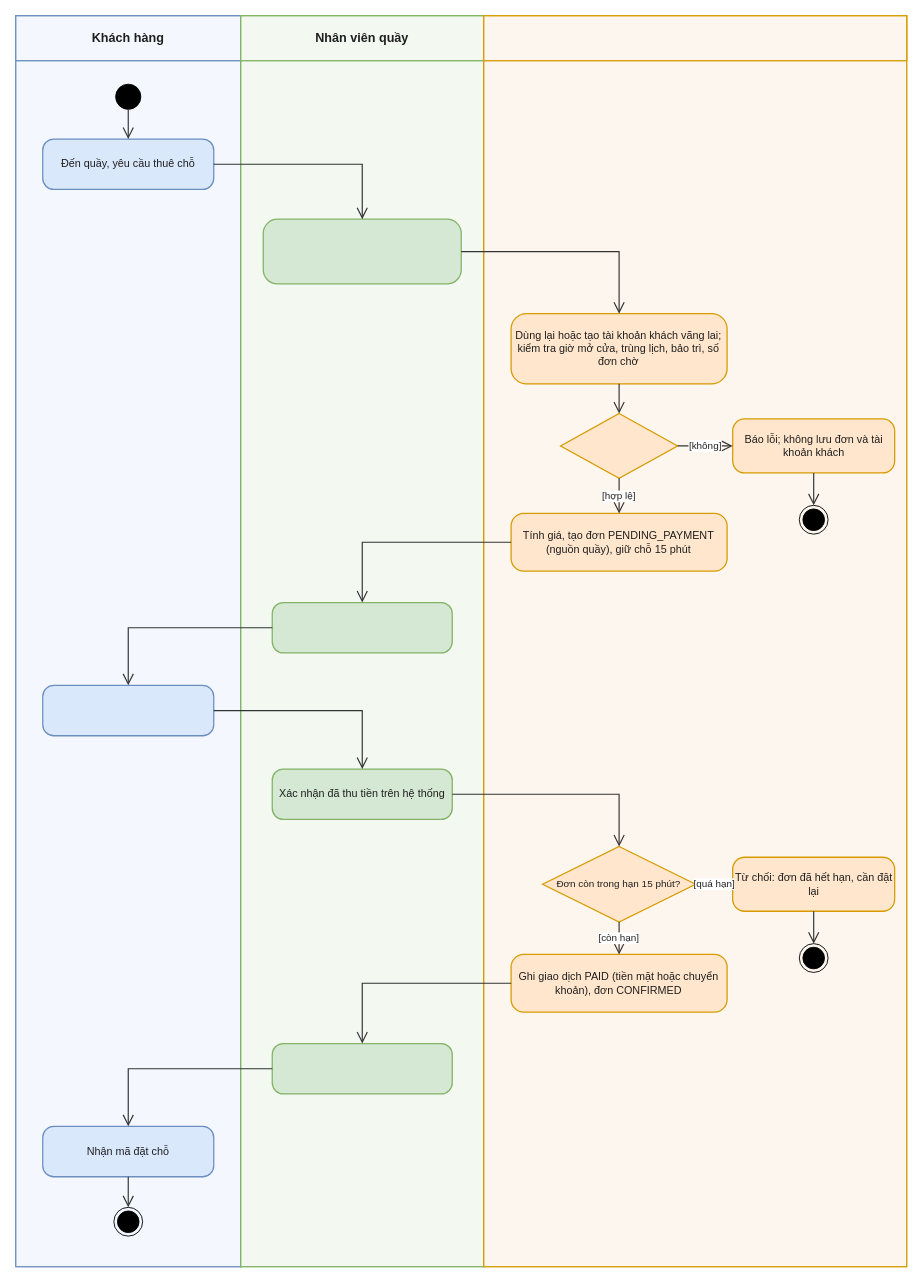
Some shapes in this 923 by 1283 pixel diagram are drawn without their labels. The centre of each missing label's shape, as x and y in pixels:
"Báo số tiền cho khách" goes at (361,627).
"Chọn khách có tài khoản hoặc nhập họ tên, số điện thoại; chọn chỗ và khung giờ" goes at (361,251).
"Hệ thống CoSpace" goes at (695,38).
"Hợp lệ?" goes at (619,445).
"Trả tiền mặt hoặc chuyển khoản" goes at (128,710).
"Đưa mã đặt chỗ cho khách" goes at (361,1068).
